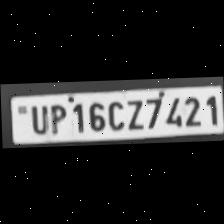1: (200, 93, 220, 126), (65, 100, 84, 133)
2: (180, 94, 200, 128)
4: (160, 93, 182, 127)
6: (84, 99, 104, 132)
7: (140, 94, 160, 128)
C: (104, 97, 124, 130)
P: (44, 102, 66, 134)
U: (25, 102, 47, 135)
Z: (123, 96, 143, 130)
